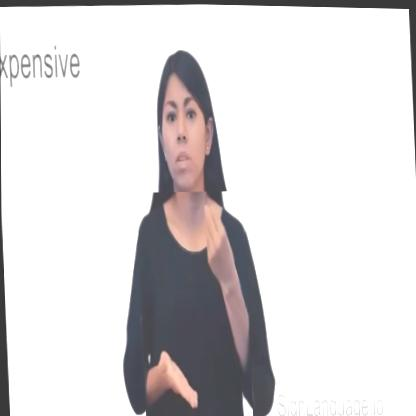Expensive: (136, 188, 252, 416)
